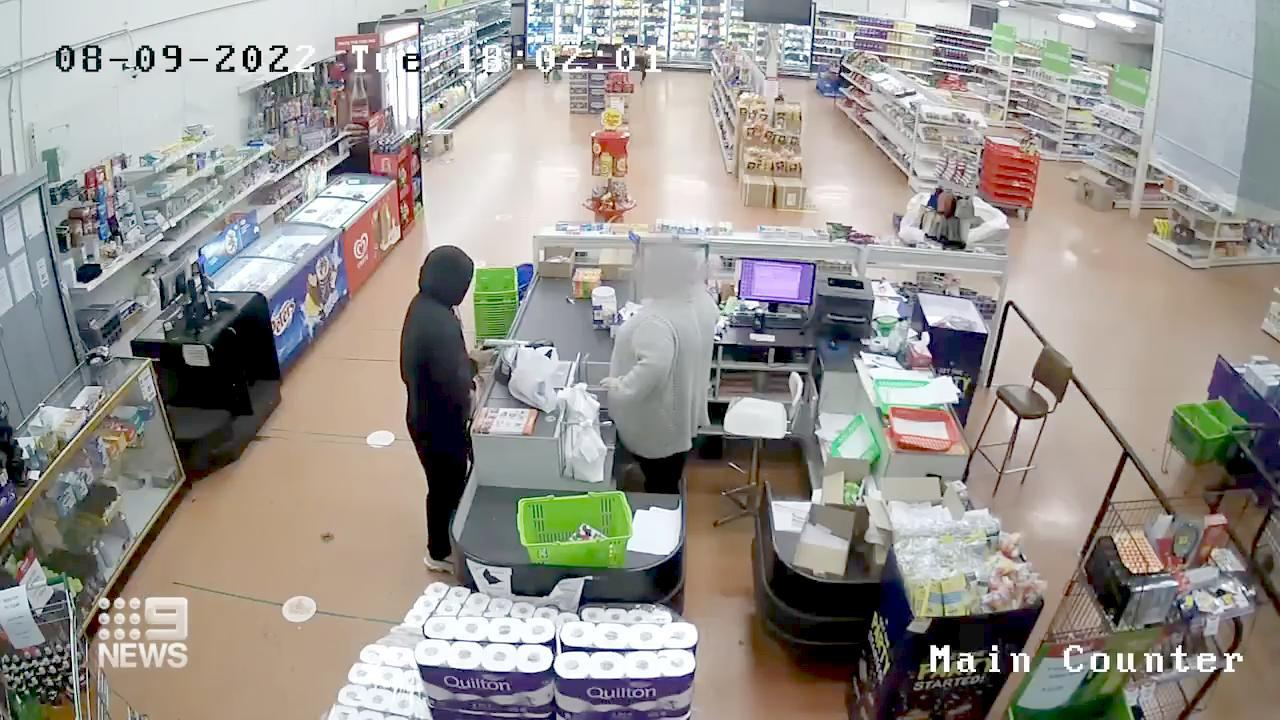gun: (470, 328, 530, 367)
